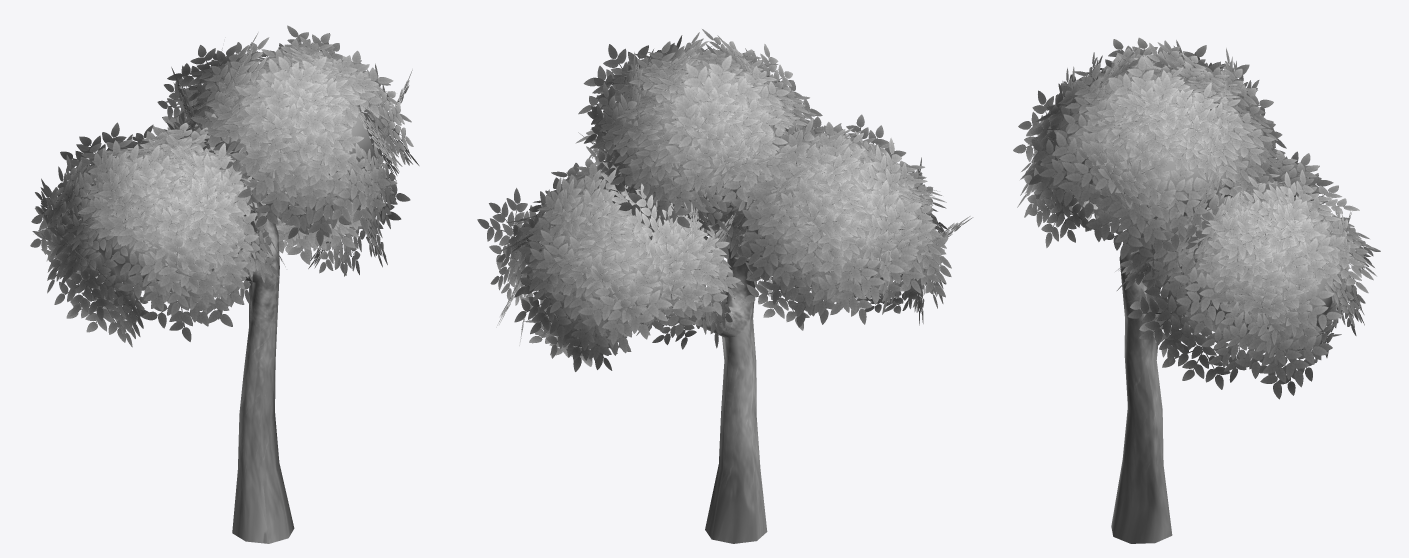
File: Tree02.fbx
3 renders of one model, left to right at view 1: azimuth 30°, elevation 25°; view 2: azimuth 150°, elevation 25°; view 3: azimuth 270°, elevation 25°, orthographic. The views are drawn at different scales.
Visible parts, largest first — view 1: Tree02_LOD0; view 2: Tree02_LOD0; view 3: Tree02_LOD0.
Part boxes in pixels (<box>): Tree02_LOD0: <box>30,25,419,543</box>; Tree02_LOD0: <box>477,29,973,543</box>; Tree02_LOD0: <box>1013,37,1380,543</box>.
Size of what is drawn, in the model's own units: 425 by 478 by 338.
